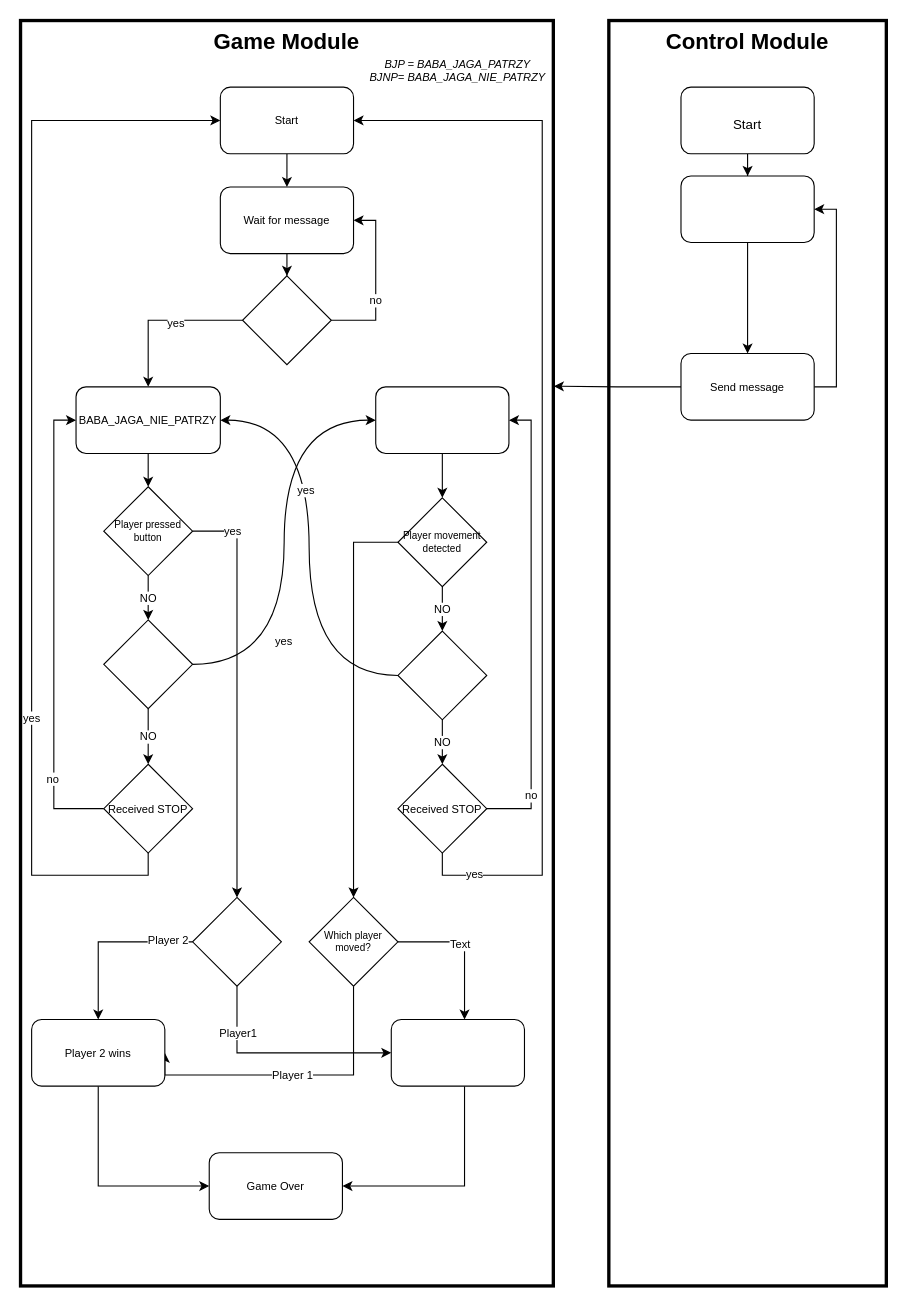
Image size: 907x1306. Some labels were removed from this diagram. Each missing label, with the centre of its shape:
"BABA_JAGA_PATRZY" belongs at pixel 442 419.
"BJNP" belongs at pixel 442 675.
"BJP" belongs at pixel 148 664.
"Chose message to send" belongs at pixel 747 209.
"Player 1 wins" belongs at pixel 457 1052.
"Received START" belongs at pixel 286 320.
"Which player pushed button?" belongs at pixel 236 941.
